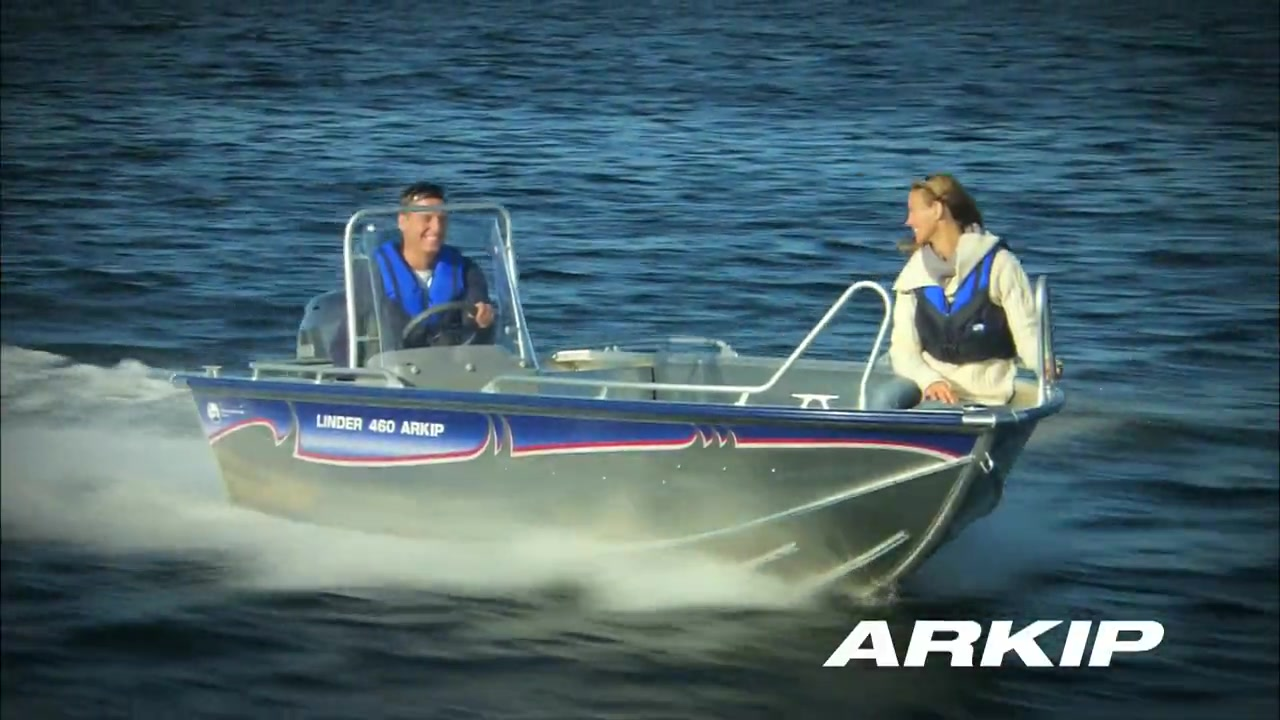boat: (162, 202, 1075, 613)
